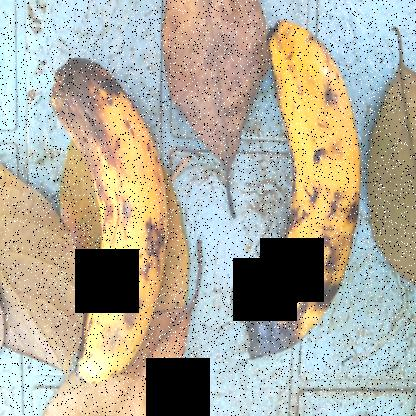overripe: (226, 10, 380, 367), (34, 44, 187, 387)
